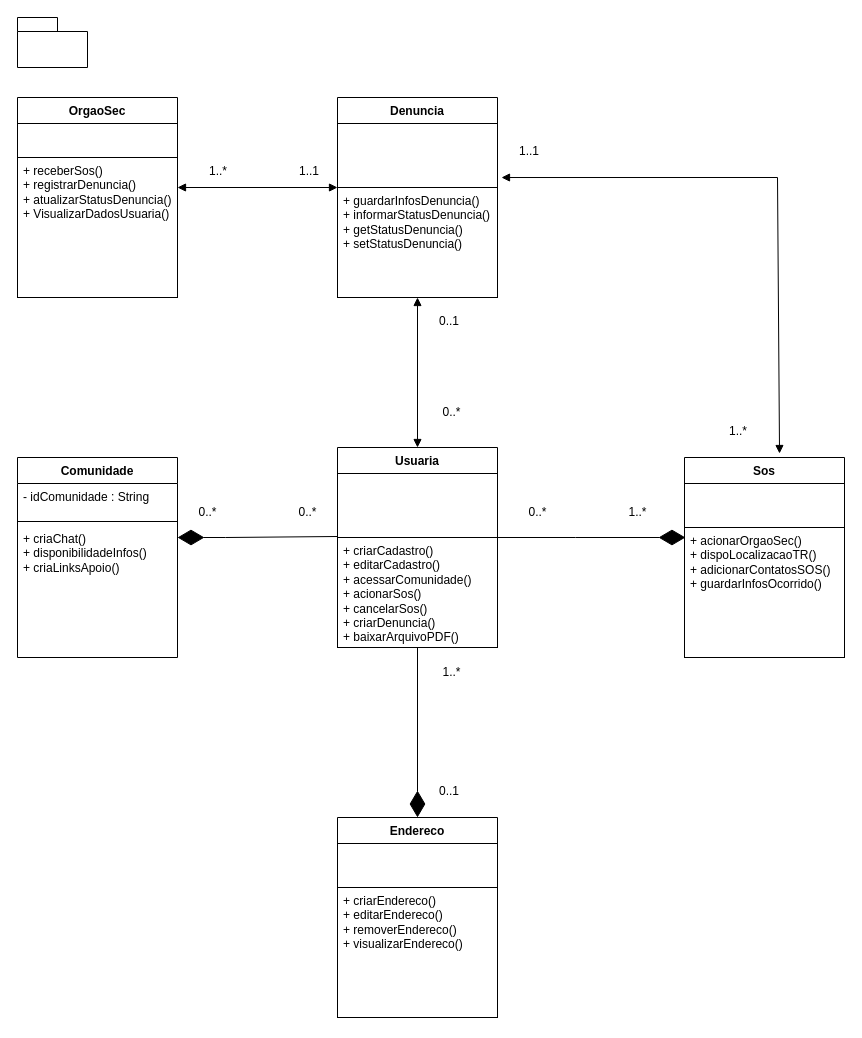
The diagram is 862 pixels wide and 1038 high, and some of its shapes have lost their labels. The centre of each missing label's shape, as x and y in pixels:
"- cep : String - numero : String" goes at pixel 417 865.
"- cpf : String - nome : String - email : String - telefone : String" goes at pixel 417 505.
"- idDenuncia : Double - infosDenuncia : String - statusDenuncia : String" goes at pixel 417 155.
"- idOrgaoSec : String" goes at pixel 97 140.
"- idSOS : String - infosOcorrido : String" goes at pixel 764 505.
"Model" goes at pixel 52 42.
